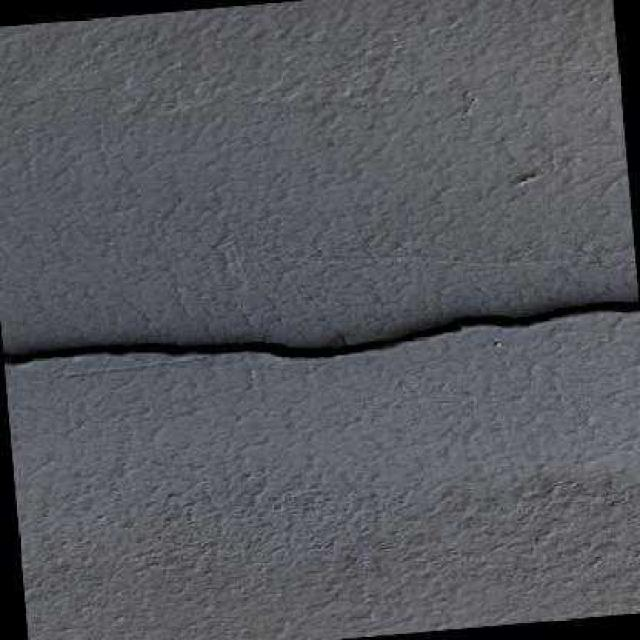D00: (3, 302, 640, 364)
